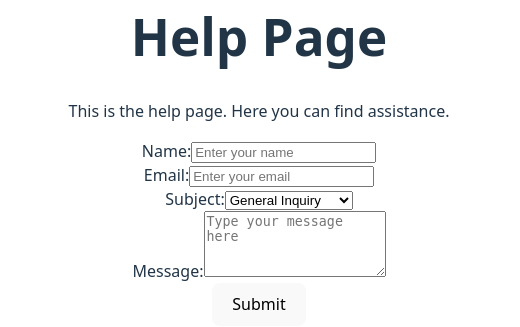
Help Component › updates the email input field and shows validation error for invalid email
Type "invalid-email" into the field labelled "Email:" at (282, 176), box left=189, top=166, right=374, bottom=187
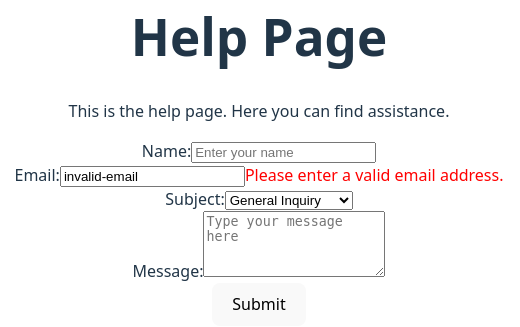
expect the text "Please enter a valid email address." is shown: met, box left=245, top=164, right=504, bottom=186
